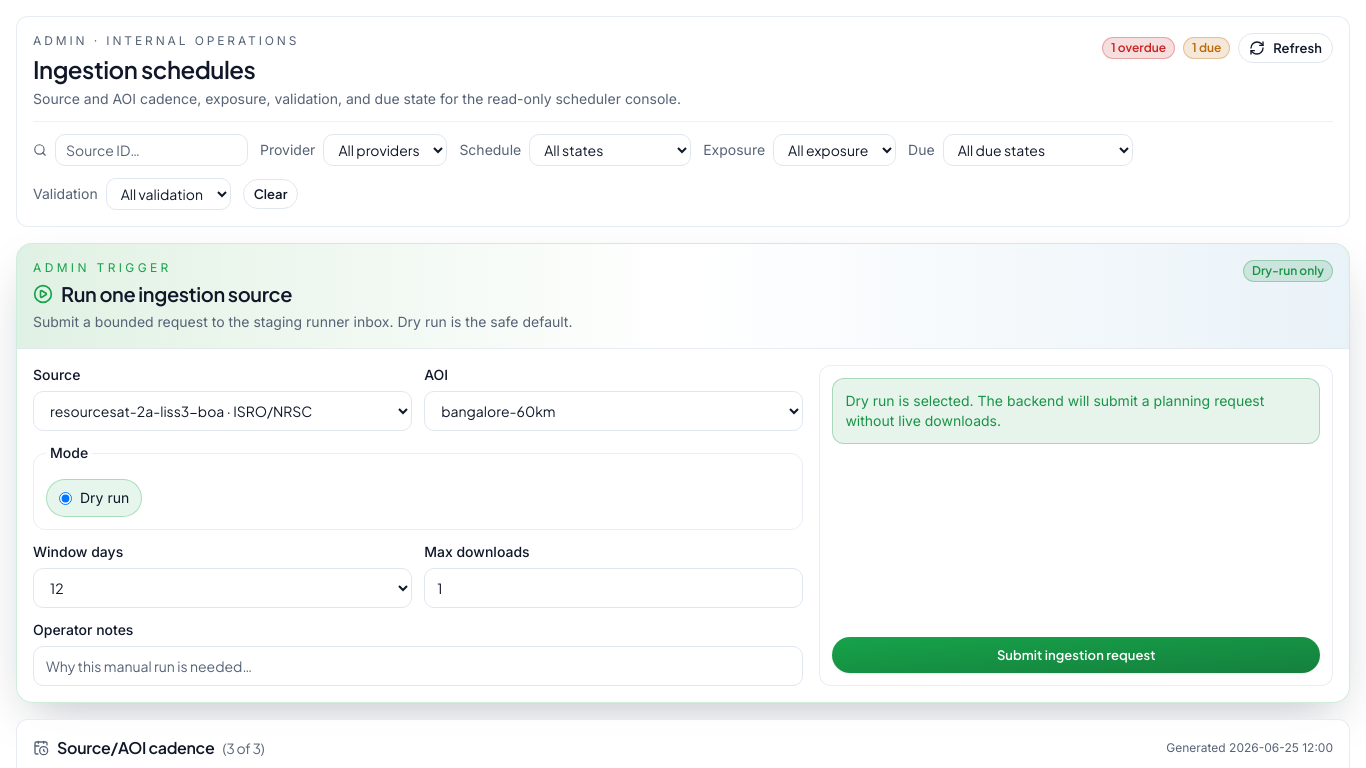
Test: IngestionSchedules › filters schedules client-side by source ID, provider, schedule state, exposure, due state, and validation
This screenshot has width=1366, height=768.
Earlier steps of the test are not shown.
Select "public" in the dropdown named "Filter by exposure" at (835, 150), box [773,134,896,166]
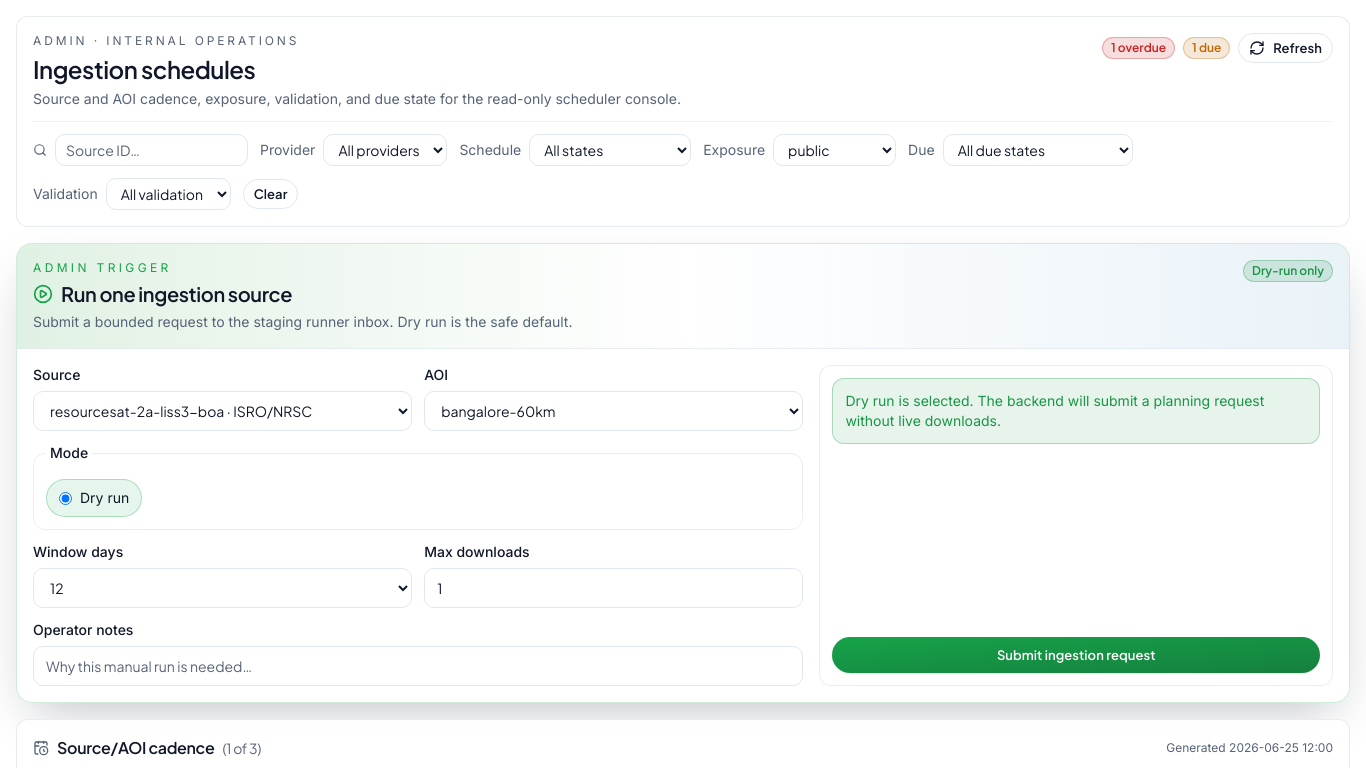
Expected: the text "sentinel-legacy-context" is not shown
Click the button "Clear" at (271, 194), box [243,179,298,209]
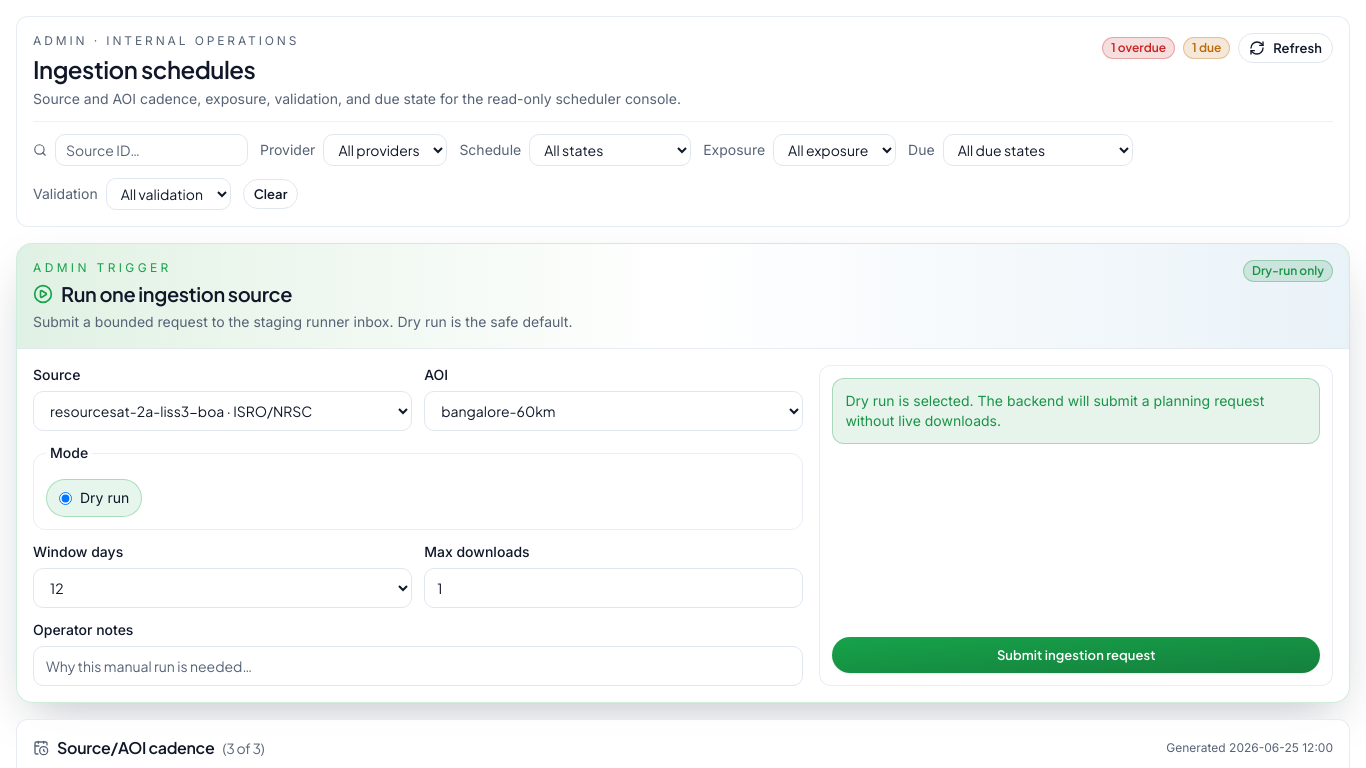
Select "Overdue" in the dropdown named "Filter by due or overdue status" at (1038, 150), box [943,134,1133,166]
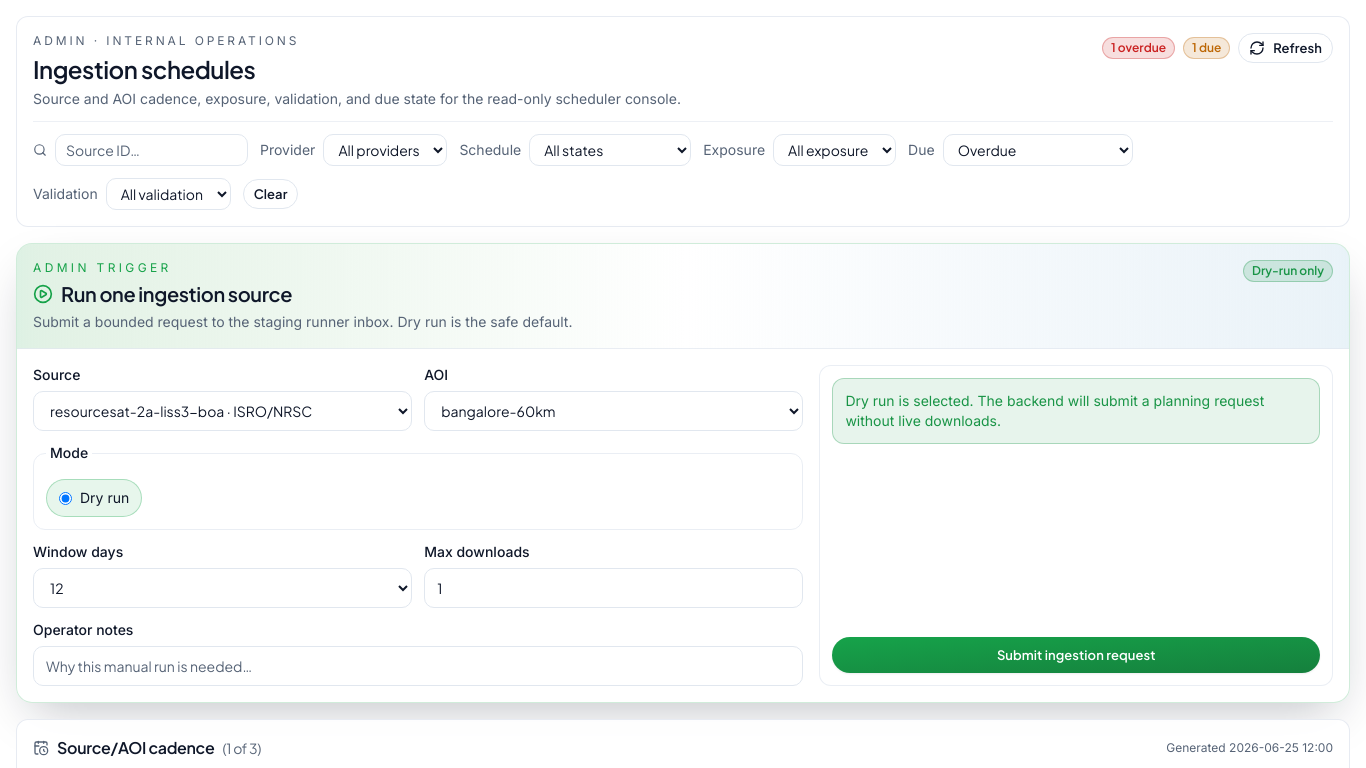
Expected: the text "sentinel-legacy-context" is not shown
Select "Due" in the dropdown named "Filter by due or overdue status" at (1038, 150), box [943,134,1133,166]
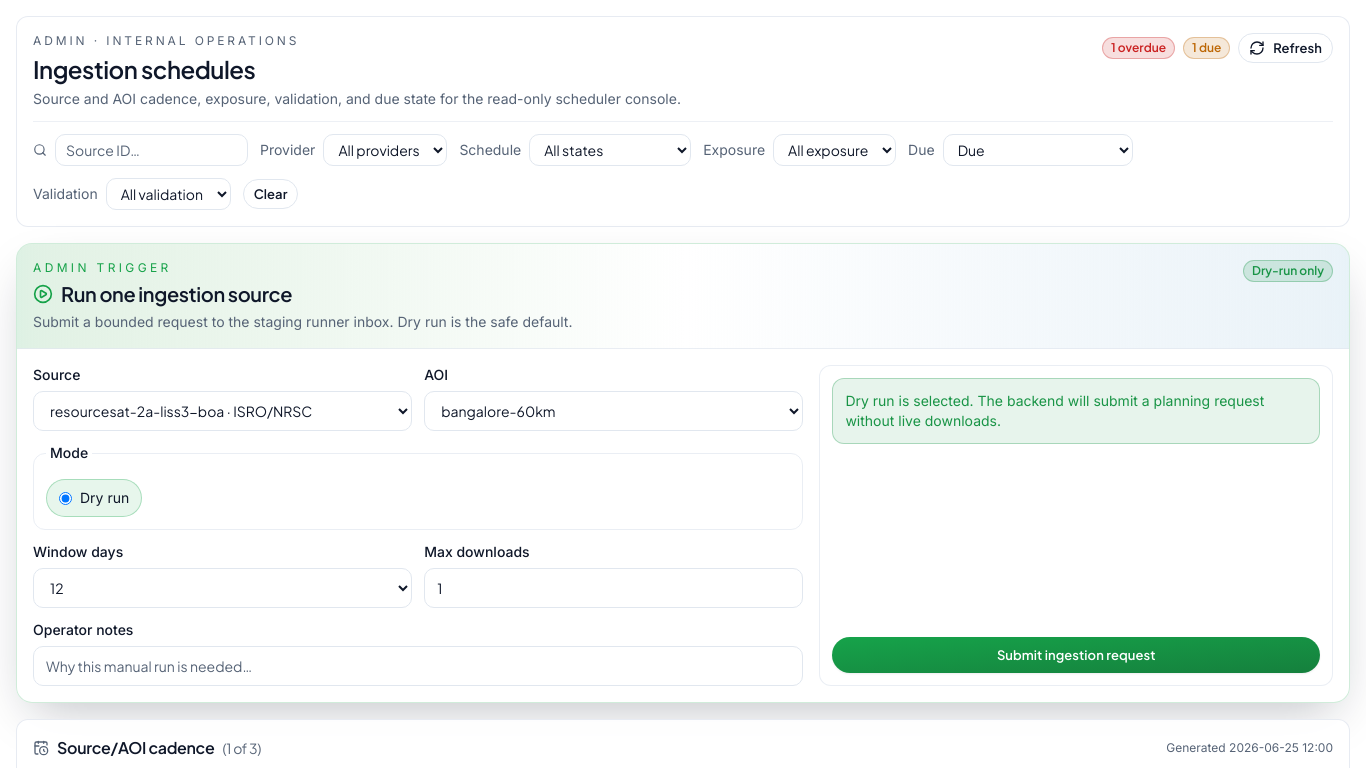
Expected: the text "sentinel-legacy-context" is not shown
Click the button "Clear" at (271, 194), box [243,179,298,209]
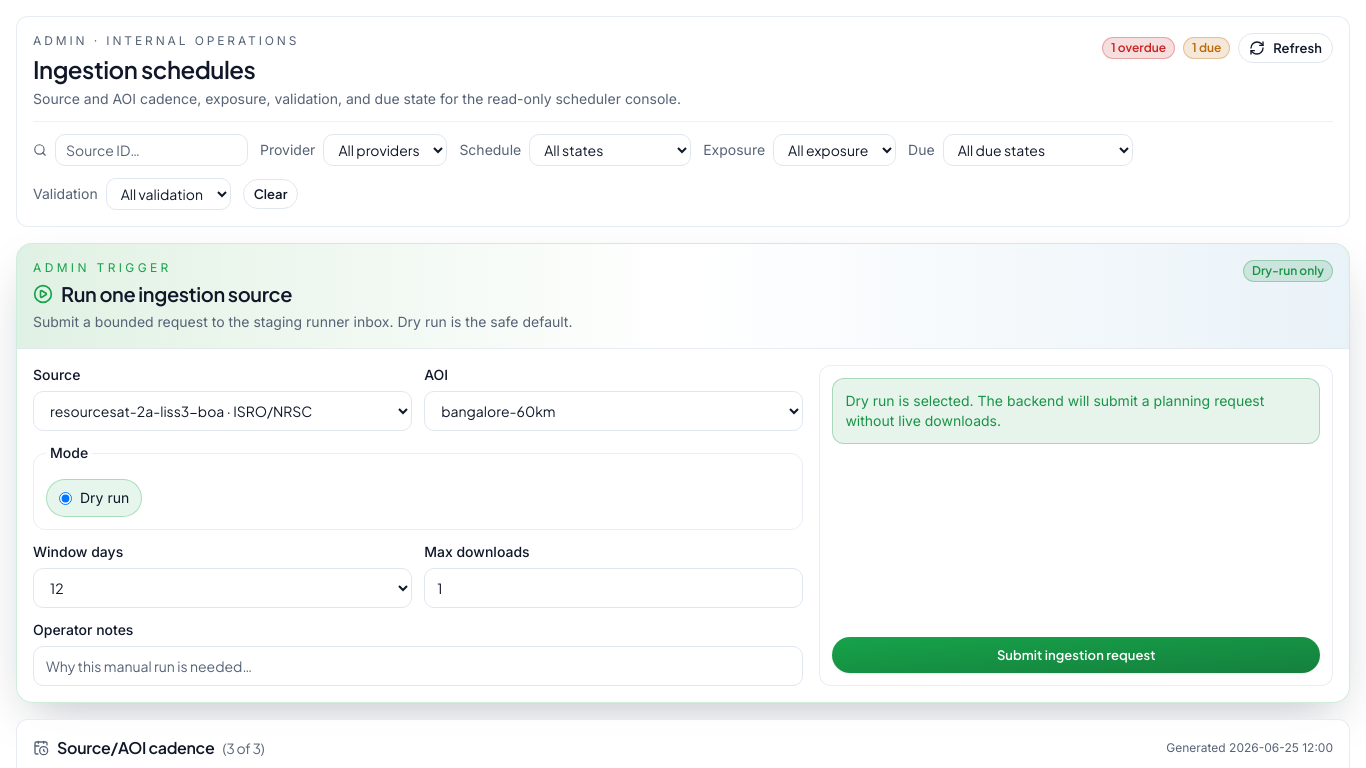
Select "blocked" in the dropdown named "Filter by validation" at (168, 194), box [106,178,231,210]
(page scrolled)
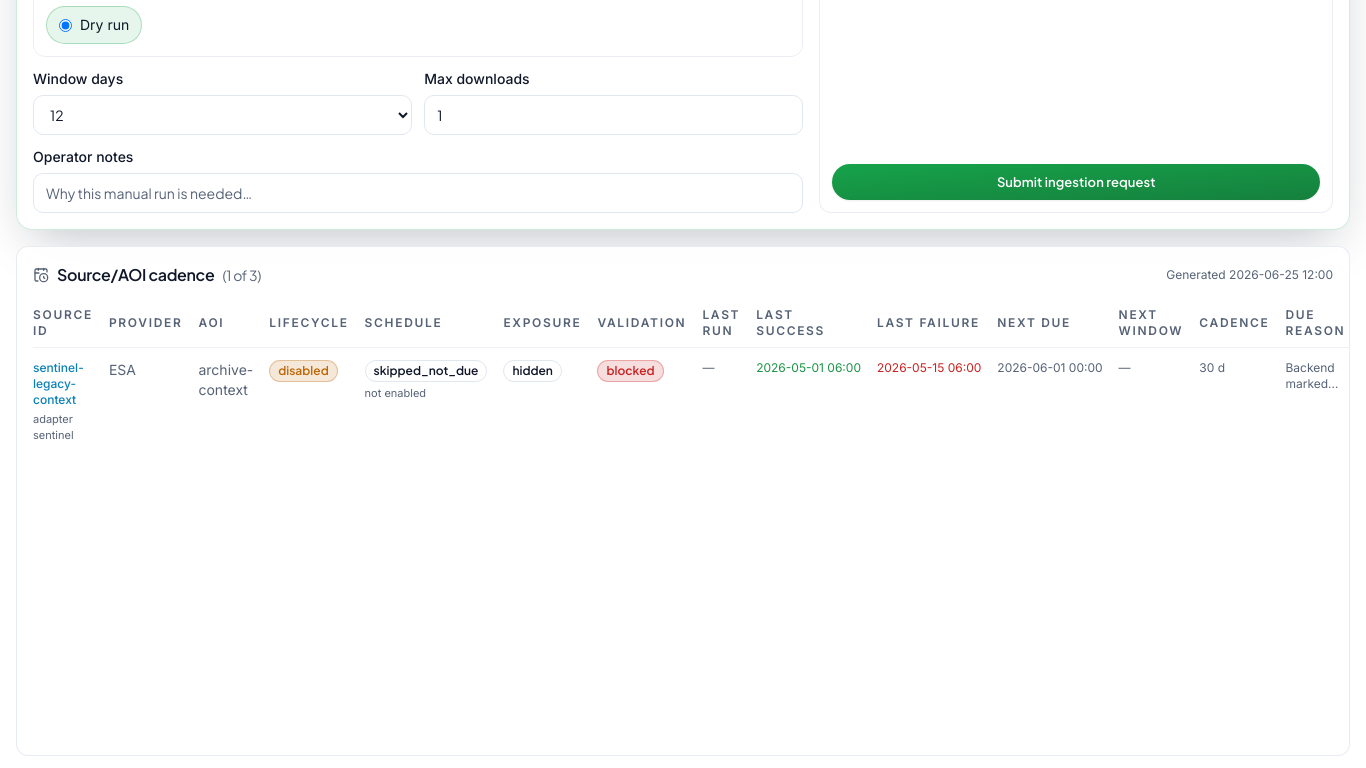
Expected: the text "resourcesat-2a-liss3-boa" is not shown
Expected: the text "sentinel-legacy-context" is shown, [33,360,84,407]
